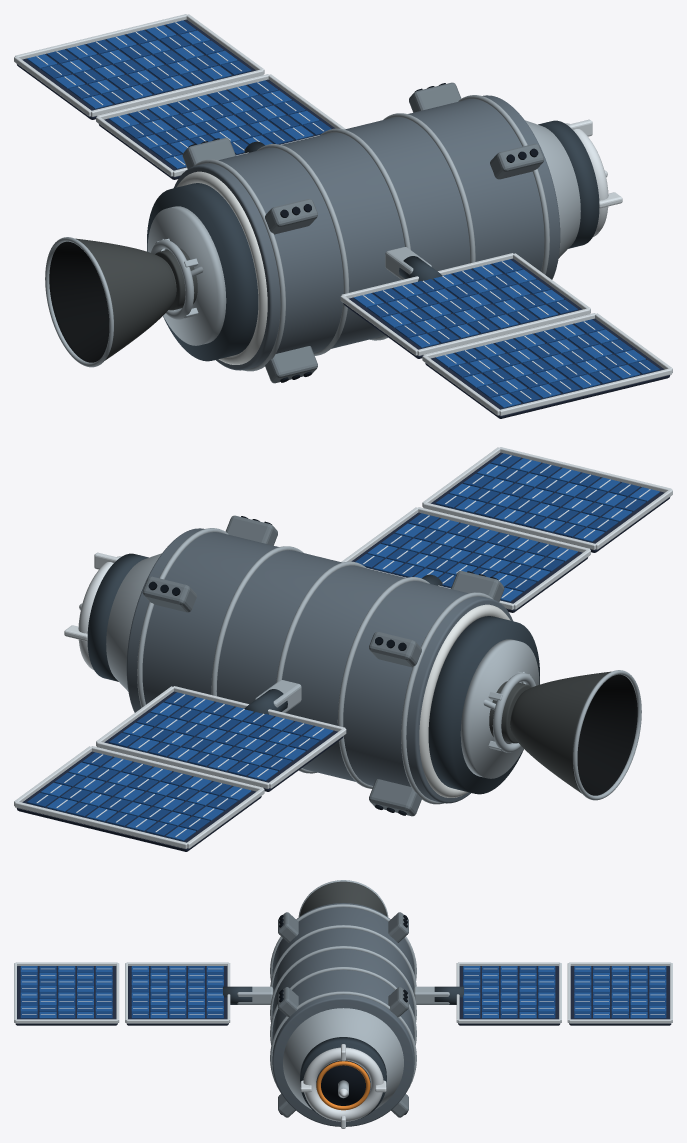
The model's file is ios_chaser_sim.glb.
3 renders of one model, top to bottom at view 1: azimuth 30°, elevation 25°; view 2: azimuth 150°, elevation 25°; view 3: azimuth 270°, elevation 25°, orthographic. The views are drawn at different scales.
Parts seen in each view (by area): view 1: service_module_pressure_shell, single_main_engine_bell, aft_equipment_module, aft_bulkhead, forward_structural_adapter, aft_radiator_band, docking_mechanism_housing, starboard_array_segment_2, port_array_segment_2, starboard_array_segment_1, port_array_segment_1, engine_exit_reinforcement (+26 smaller); view 2: service_module_pressure_shell, single_main_engine_bell, aft_equipment_module, aft_bulkhead, forward_structural_adapter, aft_radiator_band, docking_mechanism_housing, port_array_segment_2, starboard_array_segment_2, port_array_segment_1, starboard_array_segment_1, engine_exit_reinforcement (+26 smaller); view 3: service_module_pressure_shell, forward_structural_adapter, soft_capture_ring, single_main_engine_bell, port_array_segment_2, starboard_array_segment_2, docking_recess, port_array_segment_1, starboard_array_segment_1, docking_mechanism_housing, external_frame.004, external_frame.002 (+20 smaller).
Part boxes in pixels (x1=…): service_module_pressure_shell: x1=174, y1=95, x2=560, y2=370; single_main_engine_bell: x1=49, y1=238, x2=176, y2=362; aft_equipment_module: x1=147, y1=183, x2=258, y2=361; aft_bulkhead: x1=147, y1=206, x2=226, y2=345; forward_structural_adapter: x1=525, y1=120, x2=580, y2=258; aft_radiator_band: x1=176, y1=171, x2=267, y2=364; docking_mechanism_housing: x1=538, y1=120, x2=599, y2=248; starboard_array_segment_2: x1=425, y1=318, x2=670, y2=418; port_array_segment_2: x1=17, y1=19, x2=255, y2=119; starboard_array_segment_1: x1=343, y1=258, x2=582, y2=358; port_array_segment_1: x1=99, y1=79, x2=335, y2=179; engine_exit_reinforcement: x1=45, y1=237, x2=113, y2=367; service_module_pressure_shell: x1=126, y1=528, x2=512, y2=803; single_main_engine_bell: x1=510, y1=671, x2=637, y2=795; aft_equipment_module: x1=428, y1=616, x2=539, y2=794; aft_bulkhead: x1=460, y1=639, x2=539, y2=778; forward_structural_adapter: x1=106, y1=553, x2=161, y2=691; aft_radiator_band: x1=419, y1=604, x2=510, y2=797; docking_mechanism_housing: x1=87, y1=553, x2=148, y2=681; port_array_segment_2: x1=16, y1=751, x2=261, y2=851; starboard_array_segment_2: x1=431, y1=452, x2=669, y2=552; port_array_segment_1: x1=104, y1=691, x2=343, y2=791; starboard_array_segment_1: x1=351, y1=512, x2=587, y2=612; engine_exit_reinforcement: x1=573, y1=670, x2=641, y2=800; service_module_pressure_shell: x1=272, y1=903, x2=414, y2=1126; forward_structural_adapter: x1=283, y1=1008, x2=403, y2=1109; soft_capture_ring: x1=303, y1=1047, x2=383, y2=1121; single_main_engine_bell: x1=299, y1=881, x2=387, y2=916; port_array_segment_2: x1=569, y1=966, x2=671, y2=1025; starboard_array_segment_2: x1=15, y1=966, x2=117, y2=1025; docking_recess: x1=320, y1=1060, x2=366, y2=1105; port_array_segment_1: x1=458, y1=966, x2=560, y2=1025; starboard_array_segment_1: x1=126, y1=966, x2=228, y2=1025; docking_mechanism_housing: x1=300, y1=1037, x2=386, y2=1119; external_frame.004: x1=270, y1=991, x2=416, y2=1091; external_frame.002: x1=270, y1=946, x2=416, y2=1021.
Bounding box in the file's own units: 4.78 × 1.69 × 7.59.
